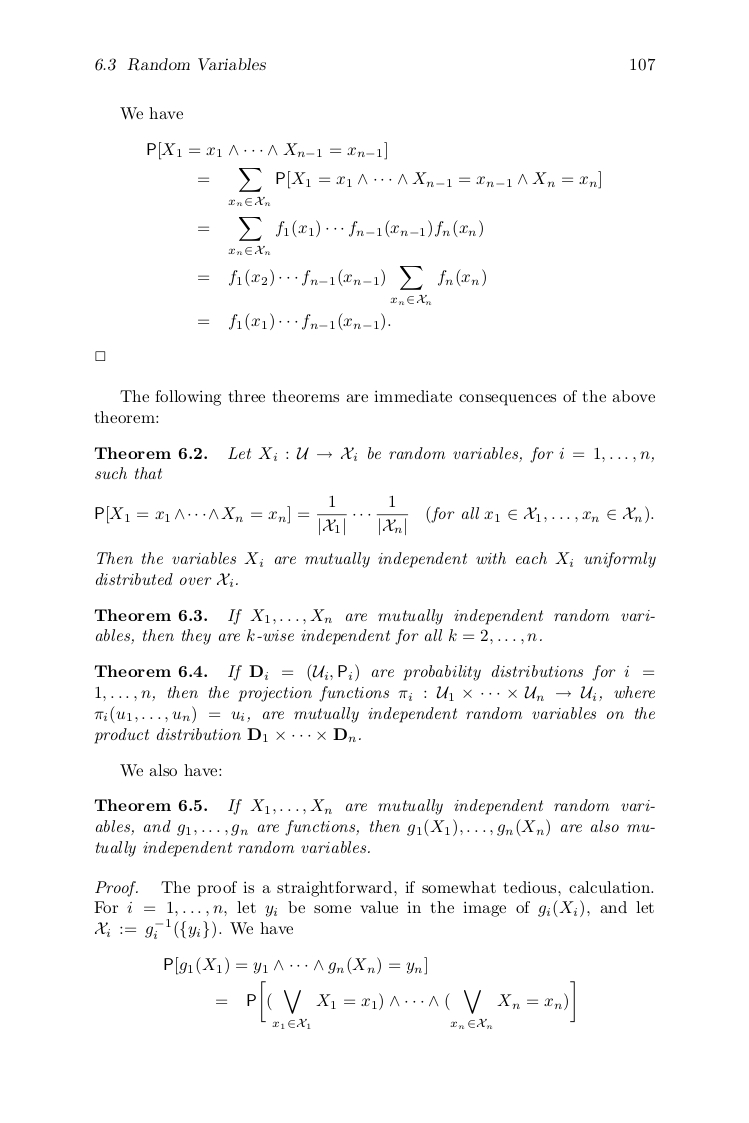formula: (95, 494, 653, 536), (216, 980, 574, 1029), (198, 168, 600, 205), (198, 266, 485, 304), (198, 217, 482, 254), (164, 955, 426, 975), (147, 141, 386, 160), (198, 312, 390, 331)
